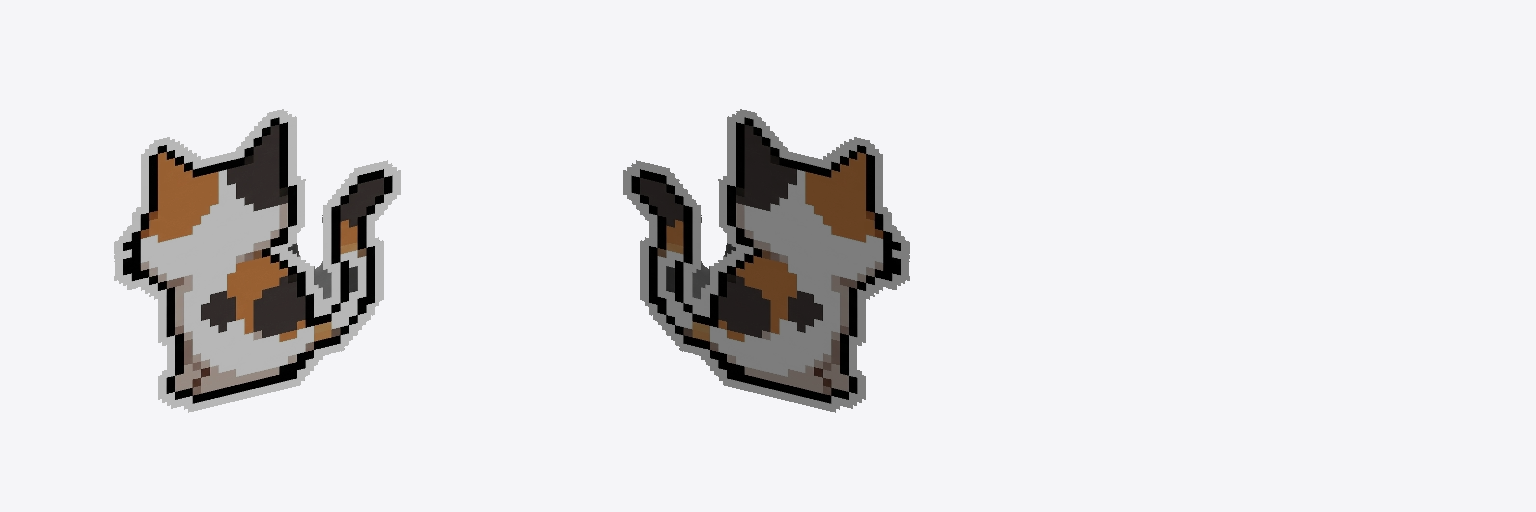
3 views of the same model, side by side, from view 1: azimuth 30°, elevation 25°; view 2: azimuth 150°, elevation 25°; view 3: azimuth 270°, elevation 25° (orthographic).
Parts seen in each view (by area): view 1: cat1.001; view 2: cat1.001; view 3: none.
Part boxes in pixels (x1,y1,x2,y2): cat1.001: (114, 109, 400, 412); cat1.001: (623, 109, 909, 412).
Bounding box in the file's own units: 1.12 × 1 × 0.
Materials: 1 (1 with a texture image).